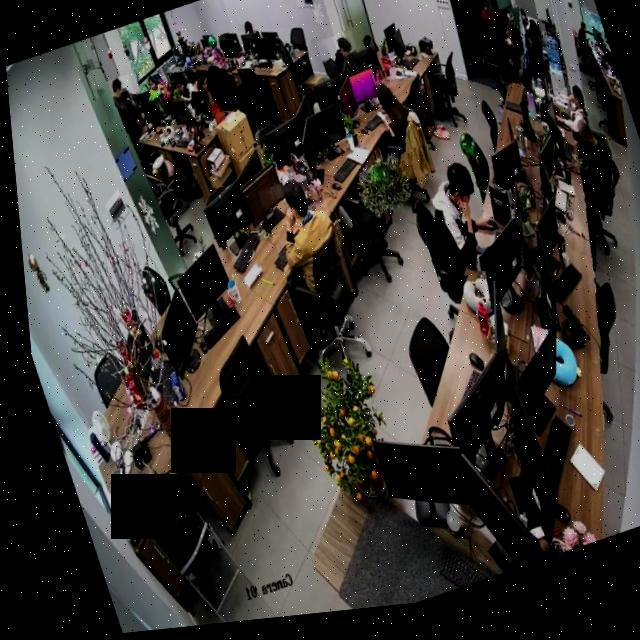person: (253, 175, 350, 319), (401, 169, 493, 296), (479, 12, 537, 98), (363, 81, 419, 167), (565, 125, 613, 205), (188, 60, 241, 122), (105, 75, 146, 149), (314, 36, 361, 85), (166, 70, 203, 125), (556, 94, 590, 145)
